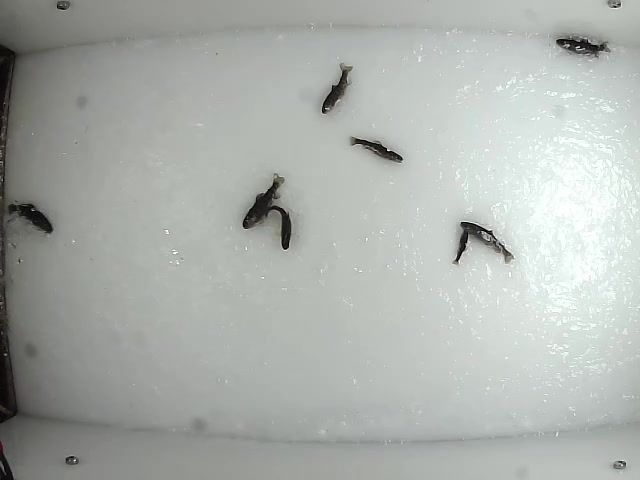fish: (240, 171, 287, 231), (457, 219, 516, 266), (5, 199, 57, 236), (320, 60, 354, 114), (346, 134, 405, 164), (555, 36, 612, 60), (264, 204, 292, 250), (451, 227, 470, 267)
